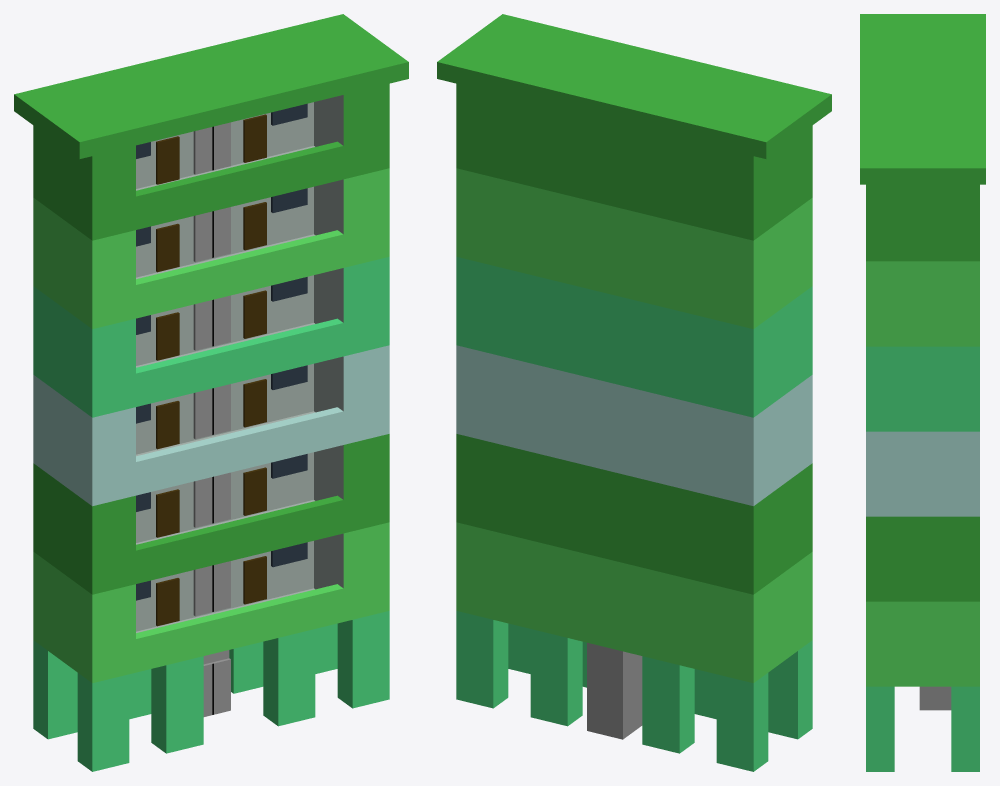
Rendered from HDB_Green.fbx.
3 views of the same model, side by side, from view 1: azimuth 30°, elevation 25°; view 2: azimuth 150°, elevation 25°; view 3: azimuth 270°, elevation 25° (orthographic). The views are drawn at different scales.
Visible parts, largest first — view 1: Buidling, Cube.007, Cube.002, Cube.013, Cube.010, Cube.016, Cube.003, Cube.019, Cube.012, Cube, Cube.006, Cube.015 (+8 smaller); view 2: Buidling, Cube.003; view 3: Buidling, Cube.003.
Boxes of the visible parts, x1=… form: Buidling: x1=14, y1=14, x2=408, y2=771; Cube.007: x1=193, y1=472, x2=230, y2=527; Cube.002: x1=193, y1=561, x2=230, y2=616; Cube.013: x1=193, y1=295, x2=230, y2=350; Cube.010: x1=193, y1=384, x2=230, y2=439; Cube.016: x1=193, y1=207, x2=230, y2=262; Cube.003: x1=203, y1=650, x2=230, y2=716; Cube.019: x1=193, y1=122, x2=230, y2=174; Cube.012: x1=156, y1=312, x2=179, y2=360; Cube: x1=243, y1=556, x2=266, y2=604; Cube.006: x1=156, y1=489, x2=179, y2=537; Cube.015: x1=156, y1=223, x2=179, y2=272; Buidling: x1=437, y1=14, x2=831, y2=771; Cube.003: x1=587, y1=642, x2=642, y2=739; Buidling: x1=860, y1=14, x2=985, y2=771; Cube.003: x1=919, y1=686, x2=951, y2=710.
Size of the model in its own units: 6422 by 11854 by 2214.
